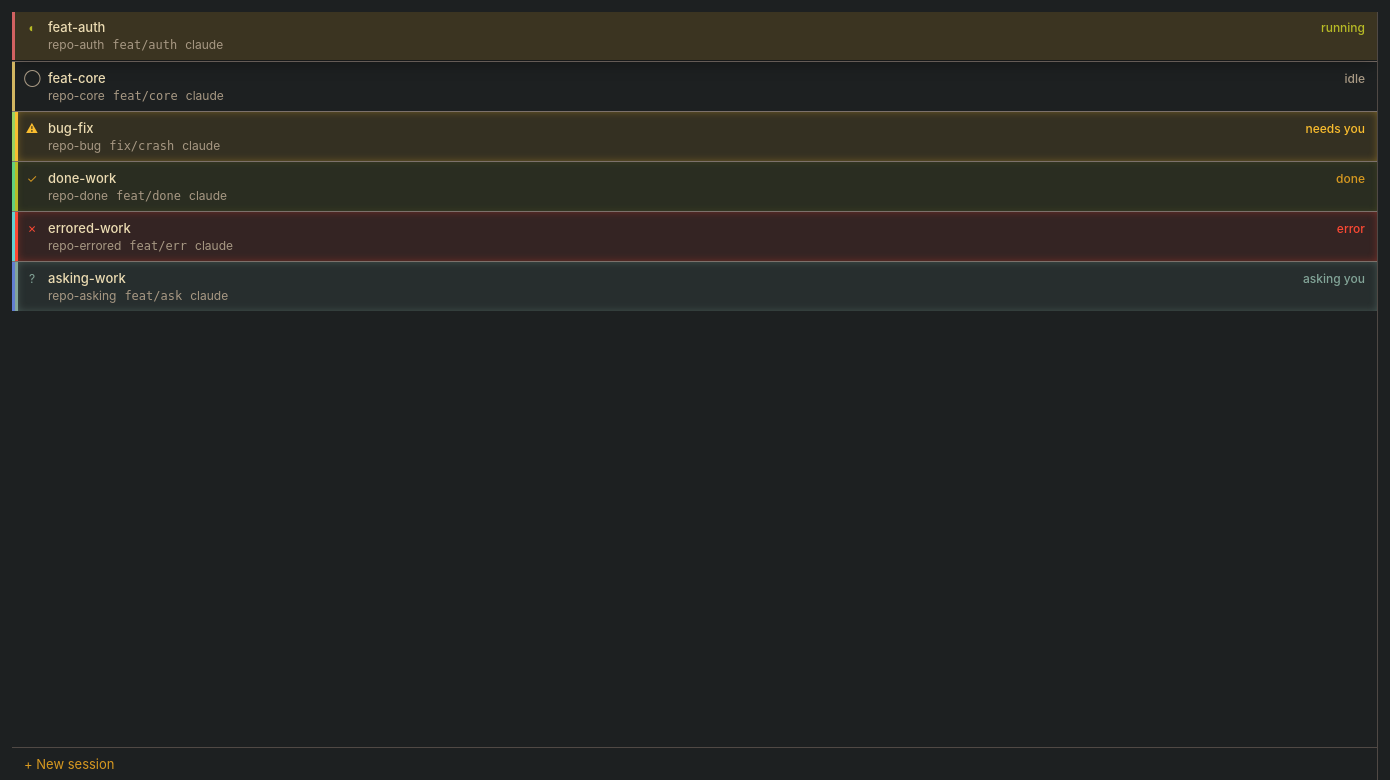
Test: F37: the menu's Remove item is absent when requestRemove is not provided
The width and height of the screenshot is (1390, 780).
Right-click the text "feat-auth" at (77,27), box x1=48 y1=19 x2=105 y2=35
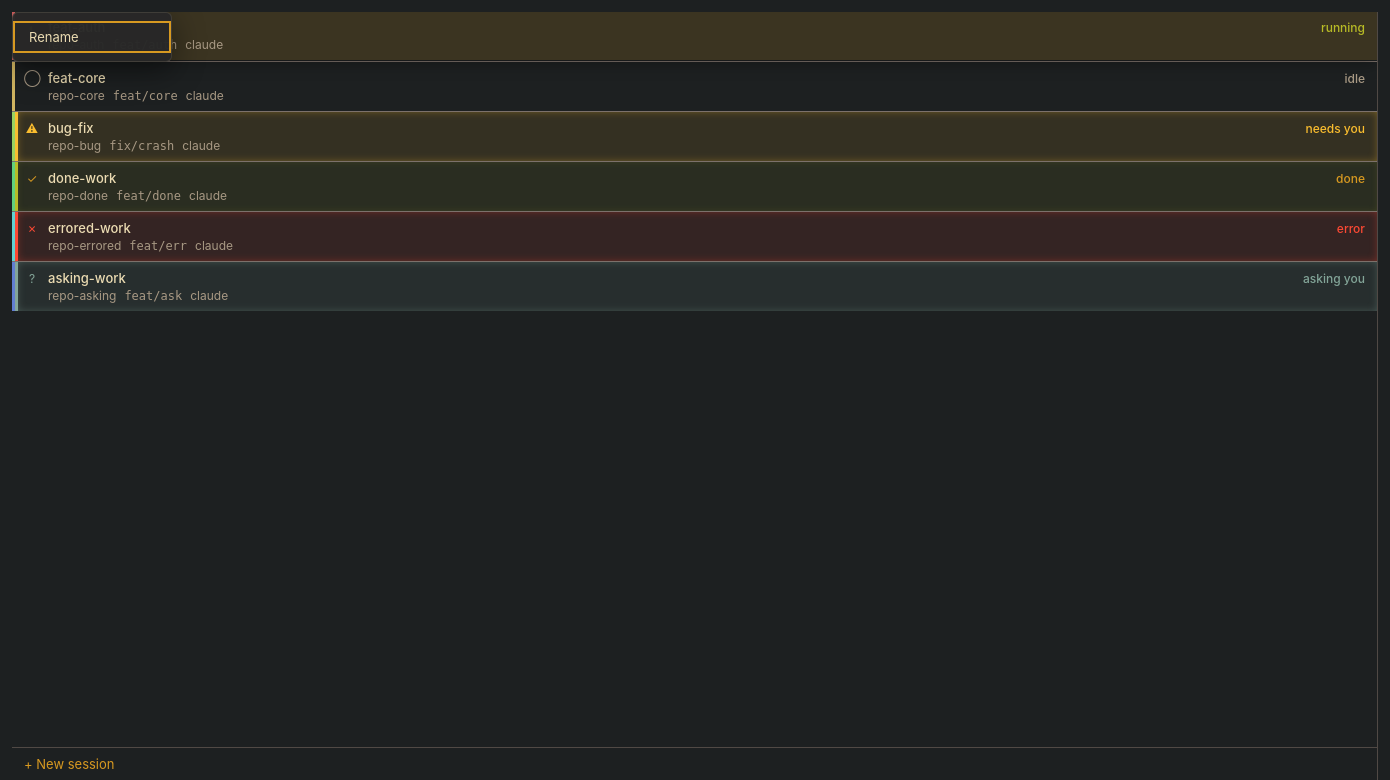
Expected: the menu item "Rename" is shown, x1=29 y1=29 x2=79 y2=45
